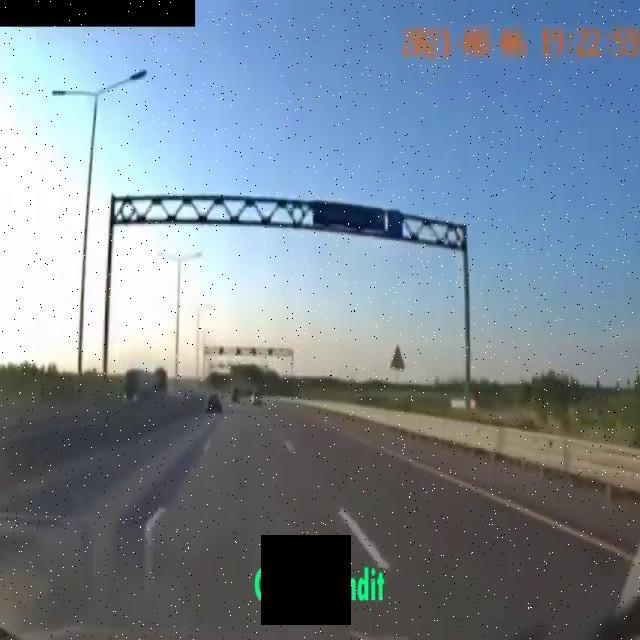single accident: (98, 340, 178, 427)
